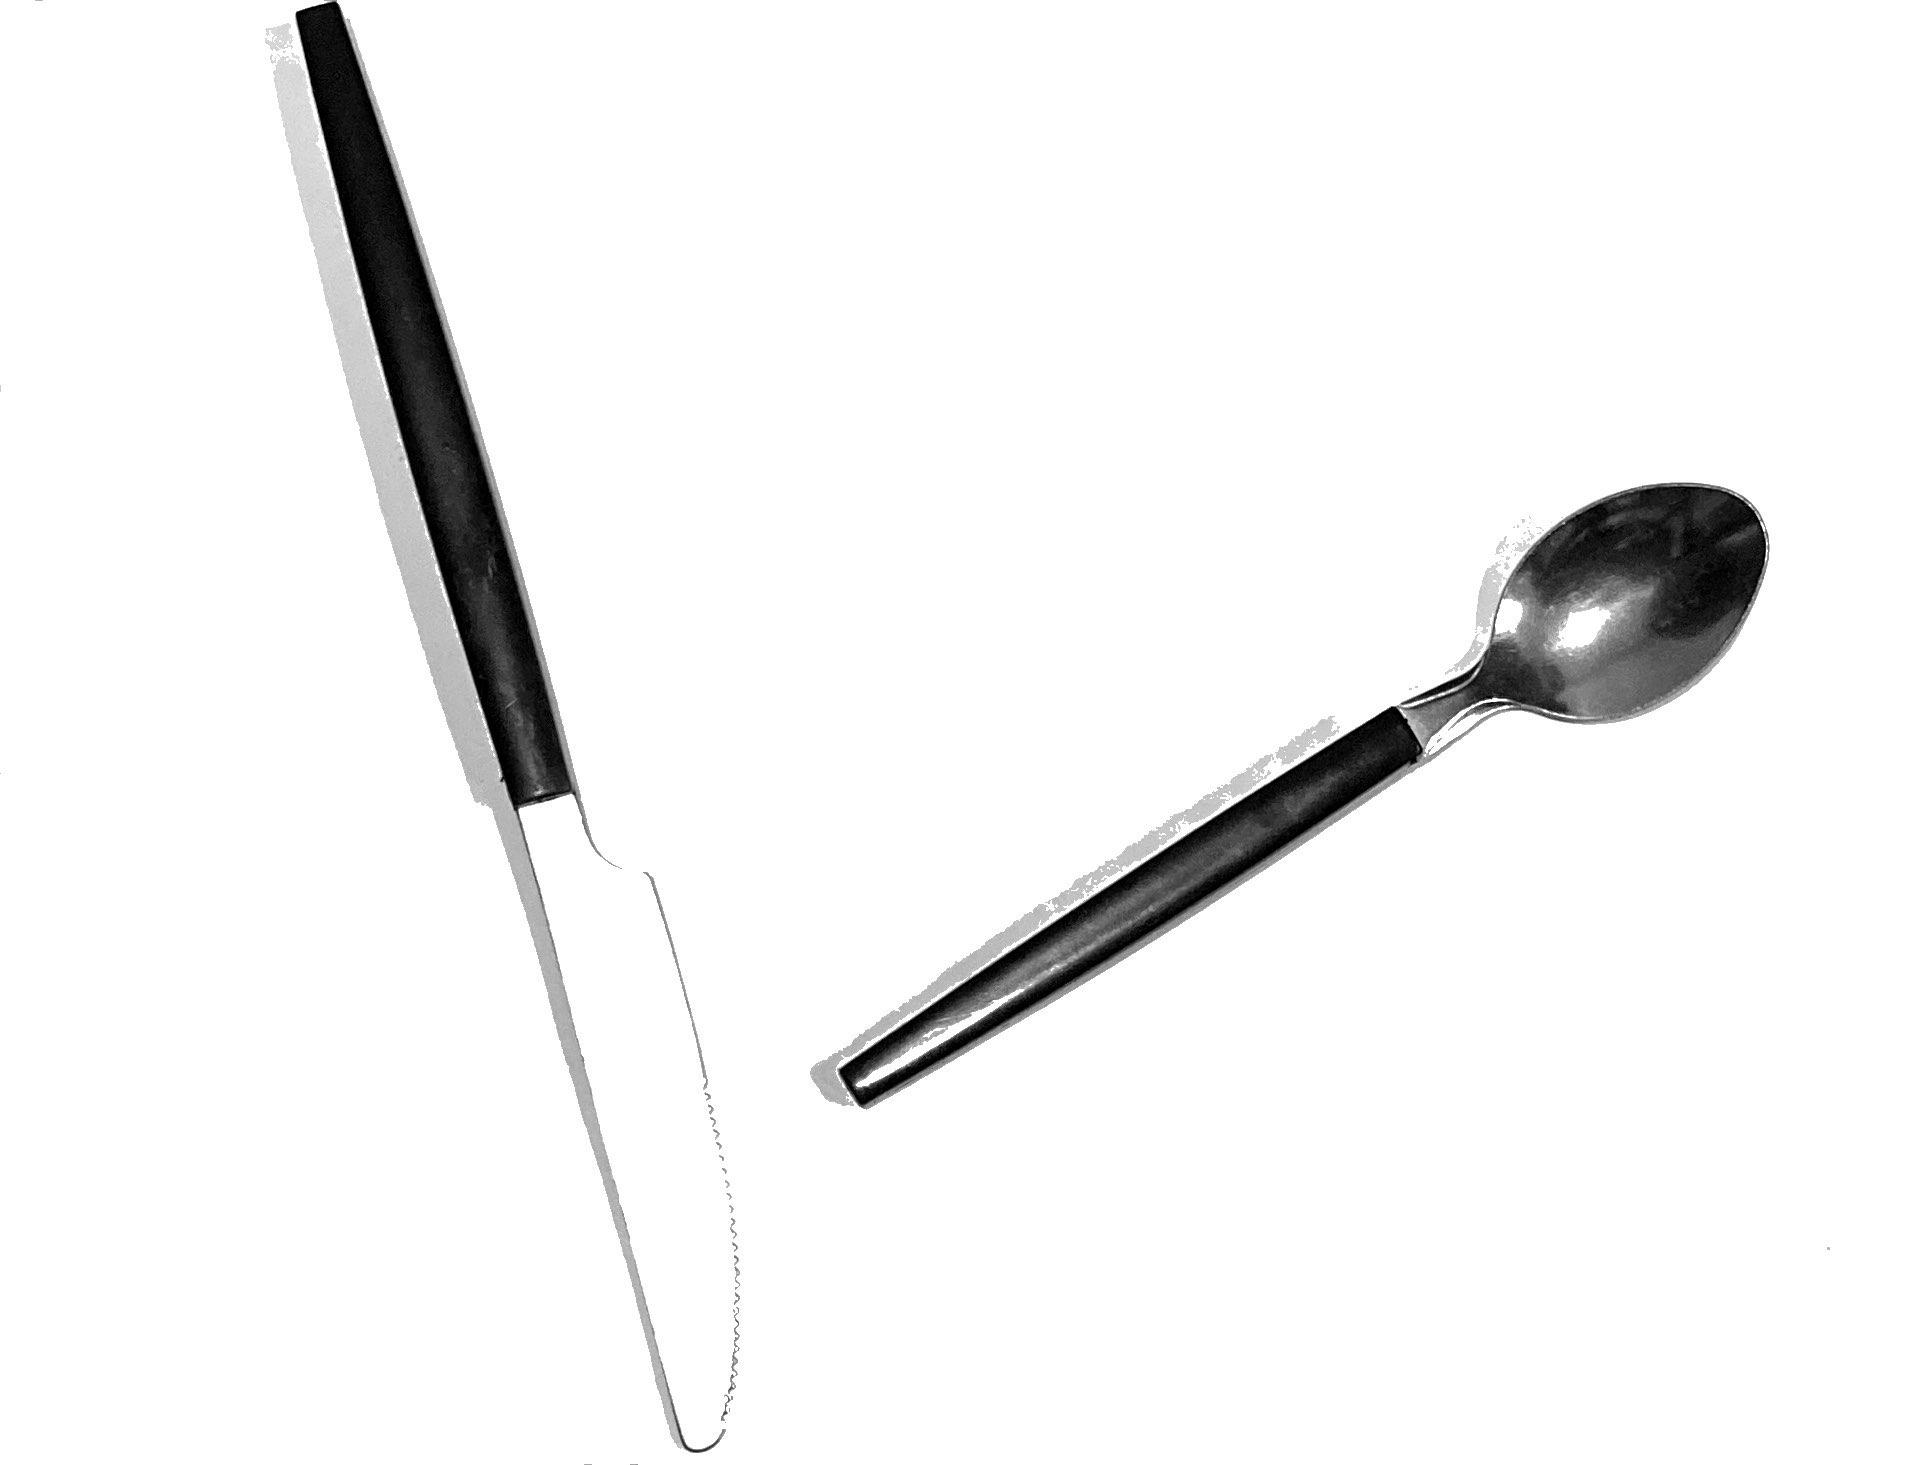Knife: (206, 3, 794, 1465)
Spoon: (817, 459, 1815, 1179)
